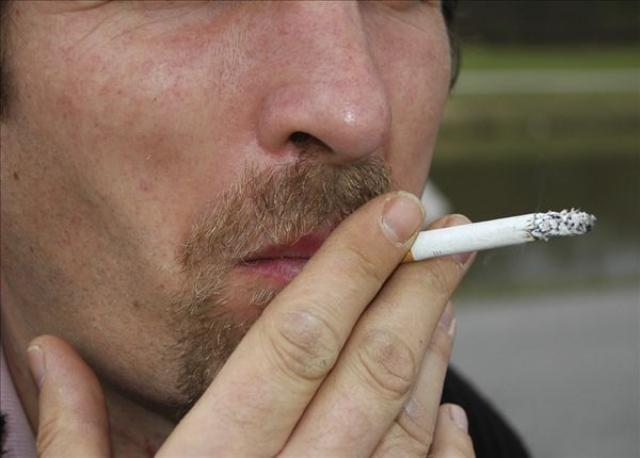Smoking: (354, 202, 602, 266)
